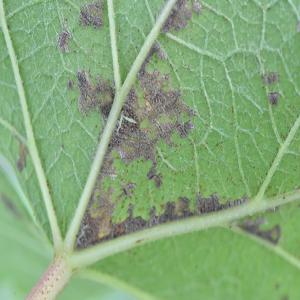Folha: (0, 0, 299, 298)
Fungo: (57, 1, 197, 246), (70, 57, 196, 188), (74, 191, 250, 249), (95, 76, 158, 180), (136, 61, 195, 148), (236, 216, 281, 245), (76, 67, 100, 116), (161, 0, 193, 34), (95, 73, 114, 120), (78, 0, 104, 29), (261, 70, 280, 107), (57, 18, 72, 53), (157, 117, 174, 147), (16, 141, 29, 172), (125, 85, 139, 111), (178, 118, 194, 138), (78, 3, 91, 27), (262, 70, 279, 84), (268, 92, 279, 107), (192, 0, 202, 15), (67, 78, 74, 90)
